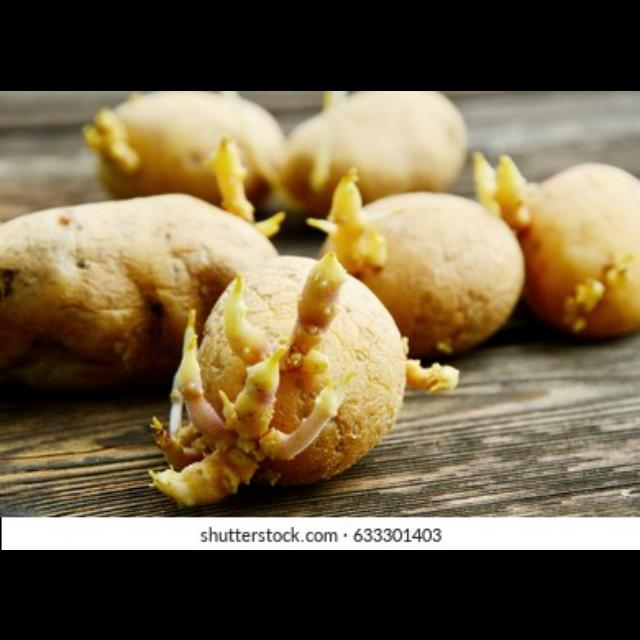Sprouted potato: (1, 184, 297, 471), (156, 236, 408, 502), (301, 184, 533, 386), (474, 154, 640, 342), (84, 91, 292, 203), (312, 90, 476, 208)
